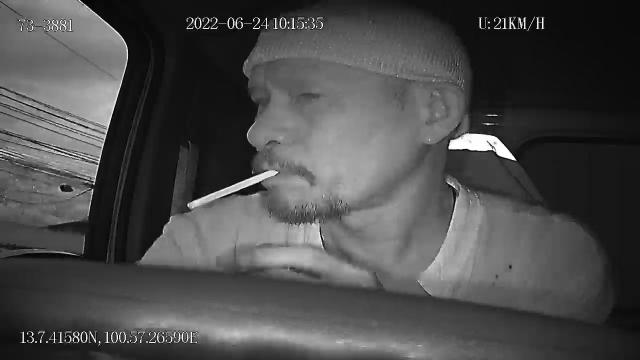Cigarette: (185, 168, 283, 214)
